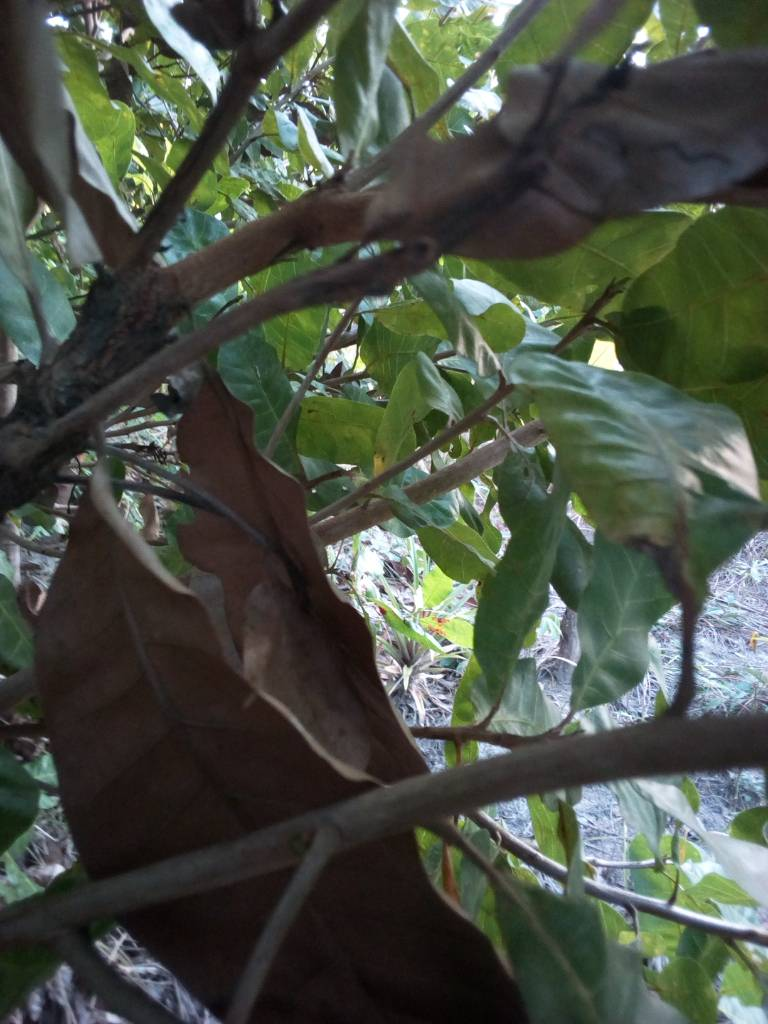Dessèchement des bourgeons: (6, 235, 301, 459)
